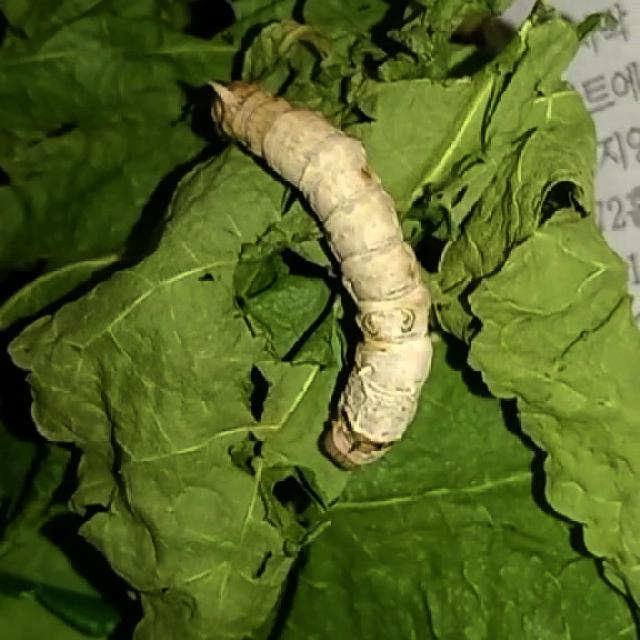Grasserie: (199, 69, 465, 477)
